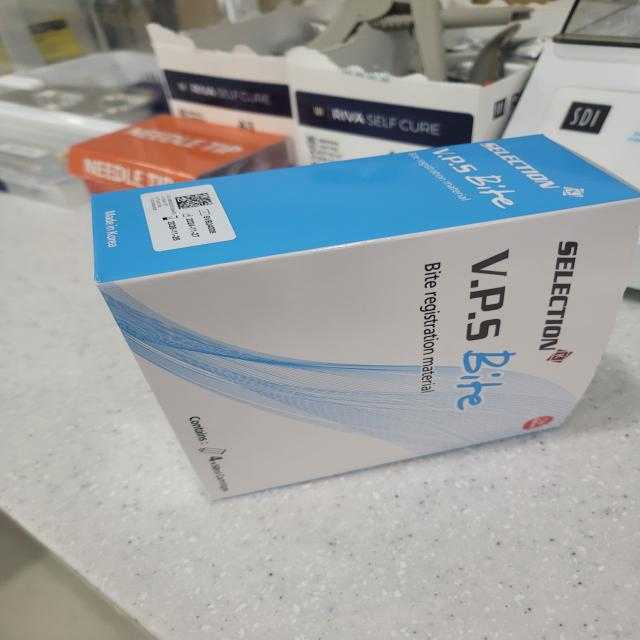impression: (55, 128, 640, 508)
